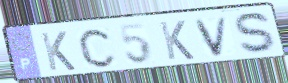5: (117, 23, 155, 66)
C: (77, 26, 119, 69)
K: (157, 19, 197, 62), (39, 30, 78, 73)
S: (233, 11, 282, 56)
V: (193, 15, 231, 59)
